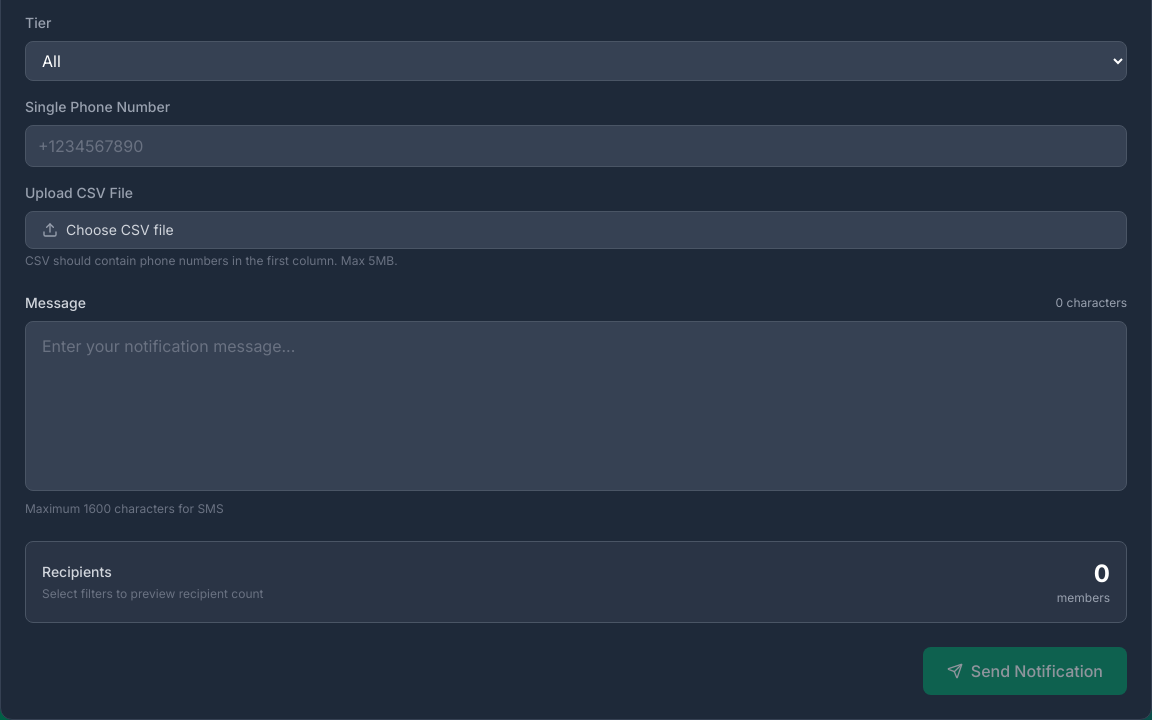
SendNotification - Send Workflow › should display character counter that updates with message
(page scrolled)
Expected: the text "0 characters" is shown, [1056,295,1127,311]
Type "Hello" into the text box labelled "Message". click: (576, 406)
box: [25,321,1127,491]
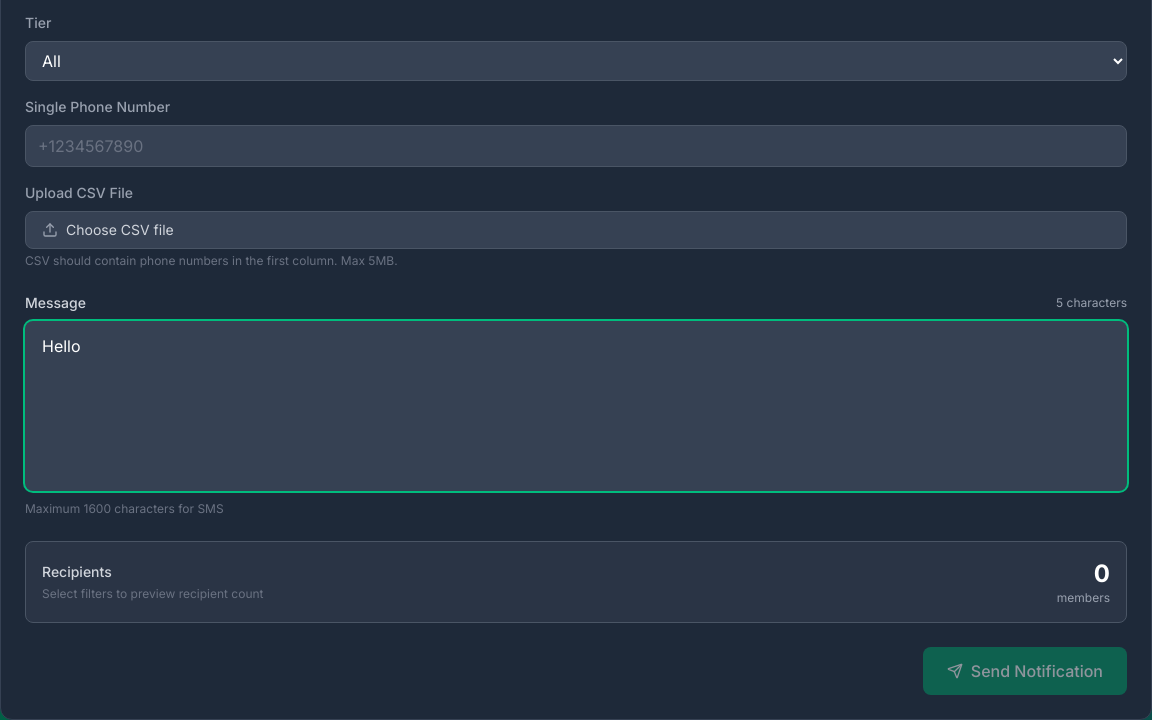
Result: the text "5 characters" is shown at [1056,295,1127,311]
